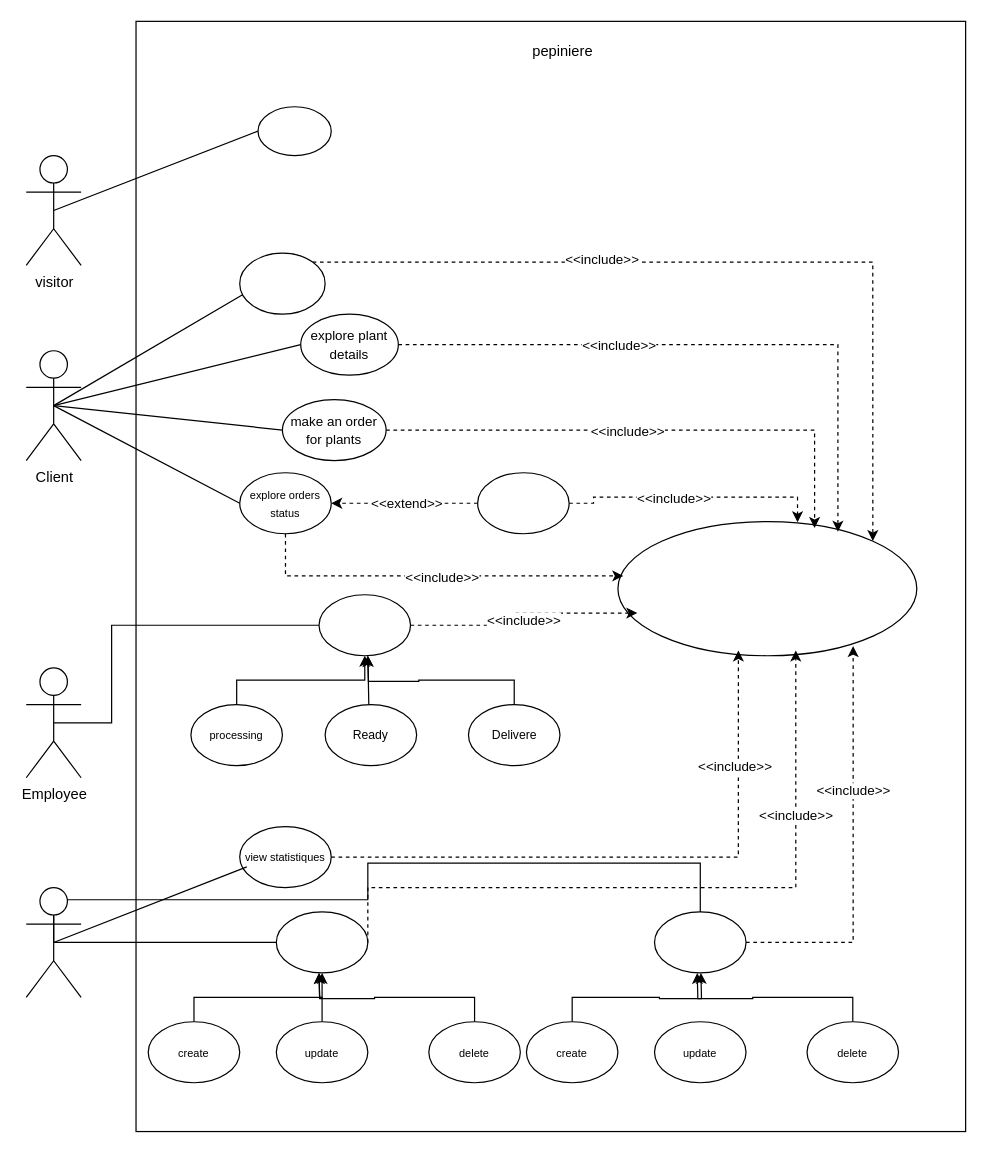
Image size: 987x1153. Some labels were removed from this diagram. Each missing label, with the box of its shape:
Admin: (25, 886, 81, 997)
Cancel an order: (476, 472, 569, 534)
explore plants: (239, 252, 325, 314)
Login: (617, 520, 917, 656)
manage categories: (653, 911, 746, 973)
Manage orders: (318, 594, 411, 656)
manage plants: (275, 911, 368, 973)
register: (257, 106, 331, 156)
